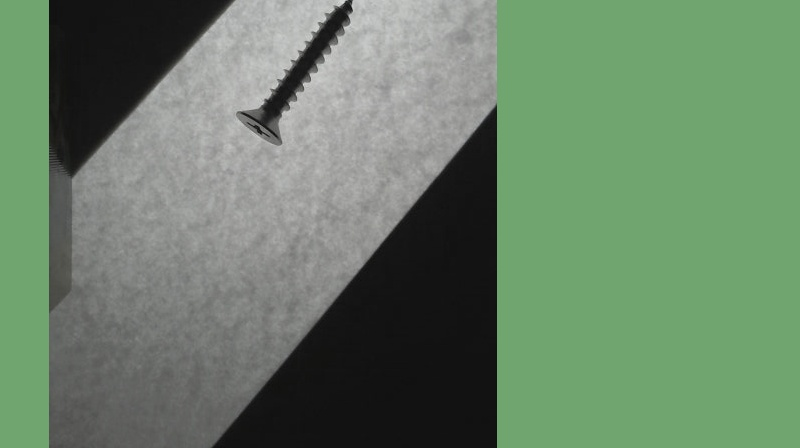S001: (233, 0, 358, 148)
